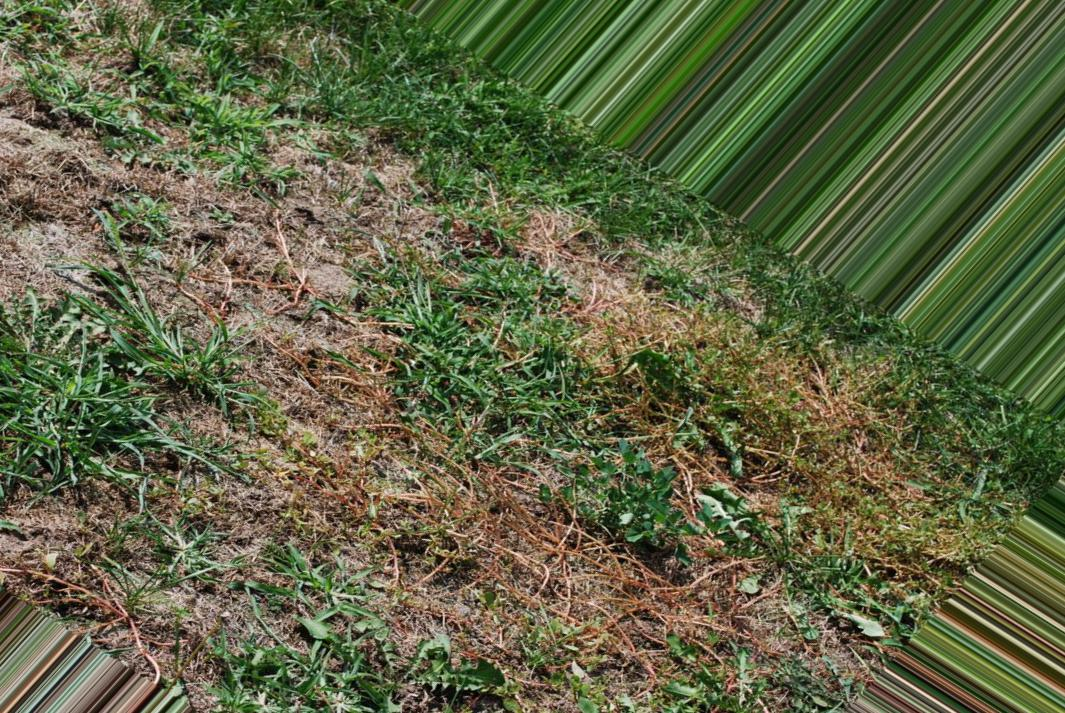patch: (277, 404, 582, 634), (519, 208, 792, 367), (180, 150, 365, 330)
